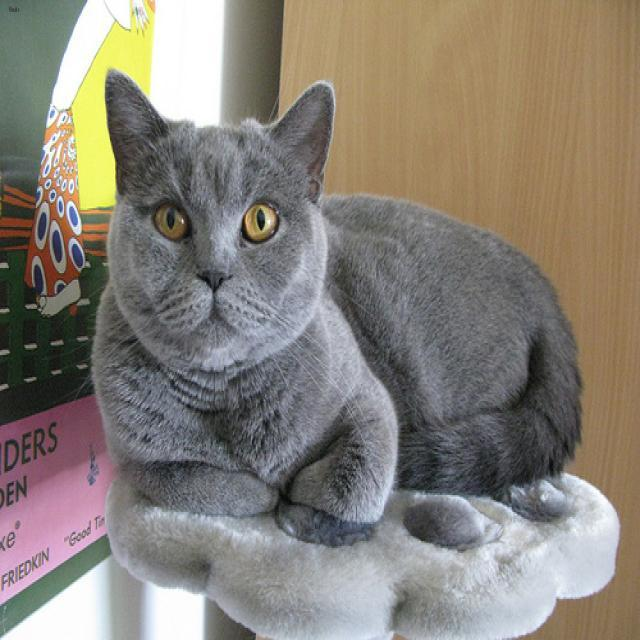British_Shorthair: (104, 65, 333, 367)
